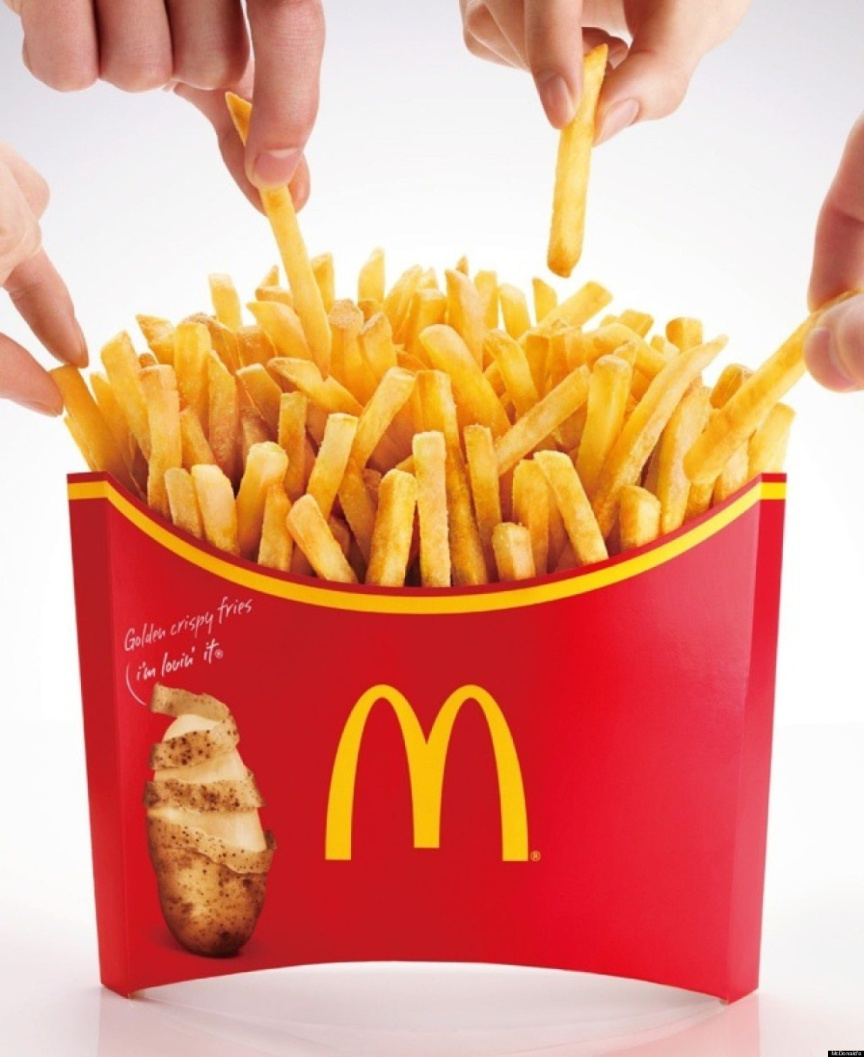mcdonalds: (312, 679, 536, 890)
